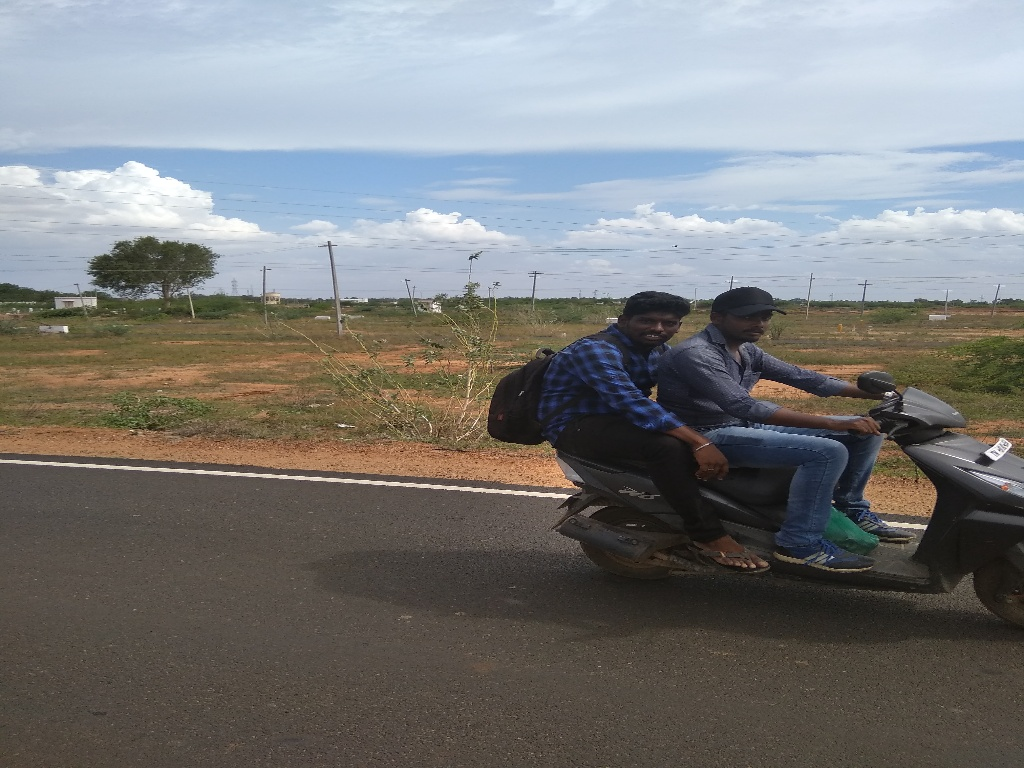biker: (476, 198, 1024, 649)
nohelmet: (699, 273, 791, 355), (606, 274, 698, 356)
